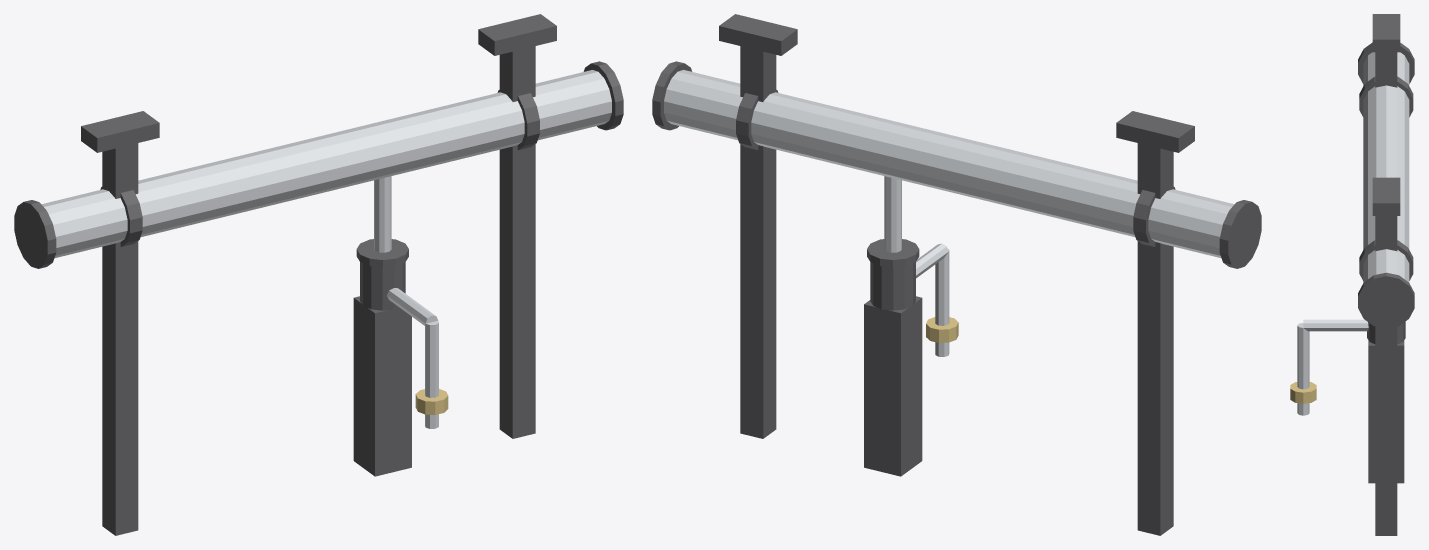
File: distillery-and-bonded-warehouse-steam-line-with-trap-343bbe44__38676.glb
The picture shows the model from 3 angles, left to right: view 1: azimuth 30°, elevation 25°; view 2: azimuth 150°, elevation 25°; view 3: azimuth 270°, elevation 25°; orthographic projection. The views are drawn at different scales.
Parts seen in each view (by area): view 1: steam-line-with-trap-iron, steam-line-with-trap-steel; view 2: steam-line-with-trap-iron, steam-line-with-trap-steel; view 3: steam-line-with-trap-iron, steam-line-with-trap-steel, steam-line-with-trap-brass.
Boxes of the visible parts, left/top/right/bottom form: steam-line-with-trap-iron: left=14, top=14, right=623, bottom=535; steam-line-with-trap-steel: left=41, top=70, right=611, bottom=428; steam-line-with-trap-iron: left=652, top=14, right=1261, bottom=535; steam-line-with-trap-steel: left=664, top=70, right=1234, bottom=356; steam-line-with-trap-iron: left=1358, top=14, right=1414, bottom=535; steam-line-with-trap-steel: left=1297, top=52, right=1409, bottom=415; steam-line-with-trap-brass: left=1290, top=382, right=1316, bottom=403.
Bounding box in the file's own units: 4.06 × 2.72 × 0.8998.
